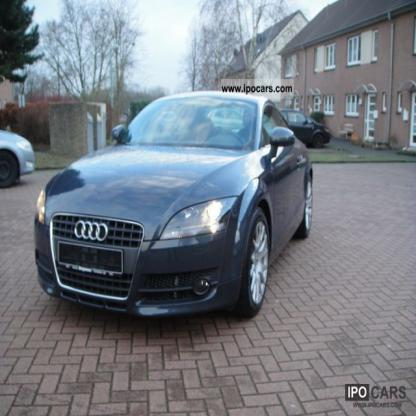Vehicle: (34, 90, 314, 328)
